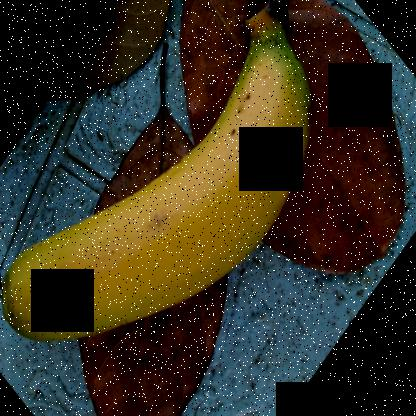freshripe: (0, 23, 312, 365)
